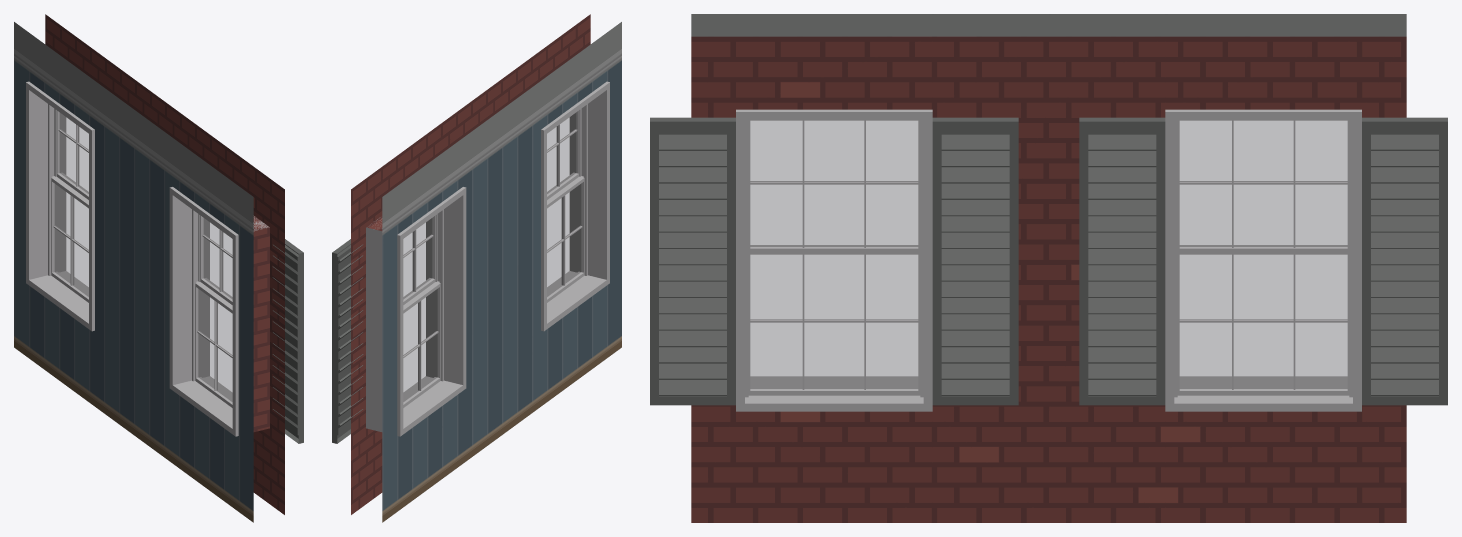
File: SM_window_02.glb
3 views of the same model, side by side, from view 1: azimuth 30°, elevation 25°; view 2: azimuth 150°, elevation 25°; view 3: azimuth 270°, elevation 25° (orthographic). The views are drawn at different scales.
Parts seen in each view (by area): view 1: SM_window_02; view 2: SM_window_02; view 3: SM_window_02.
Part boxes in pixels (x1,y1,x2,y2): SM_window_02: (14, 14, 303, 522); SM_window_02: (332, 14, 621, 522); SM_window_02: (650, 14, 1447, 522).
Bounding box in the file's own units: 0.403 × 3 × 4.46.
Materials: 4 (3 with a texture image).
